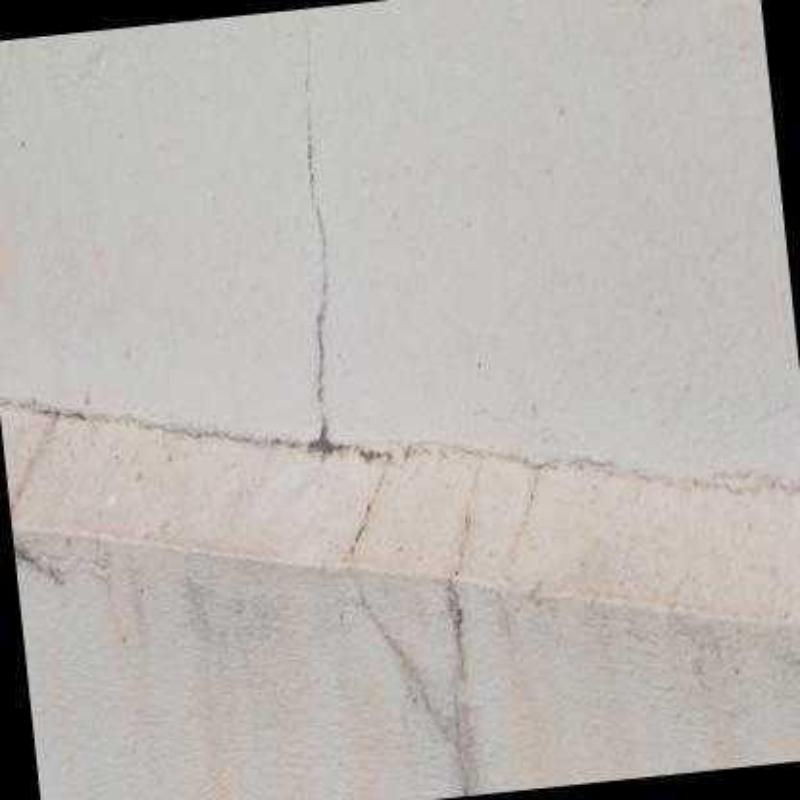pothole: (0, 400, 798, 798), (299, 7, 334, 434), (10, 417, 56, 510), (15, 550, 63, 587)
